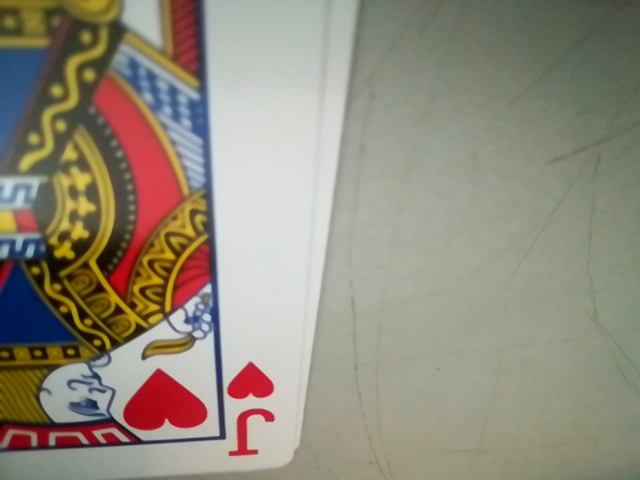hx j: (221, 356, 281, 464)
